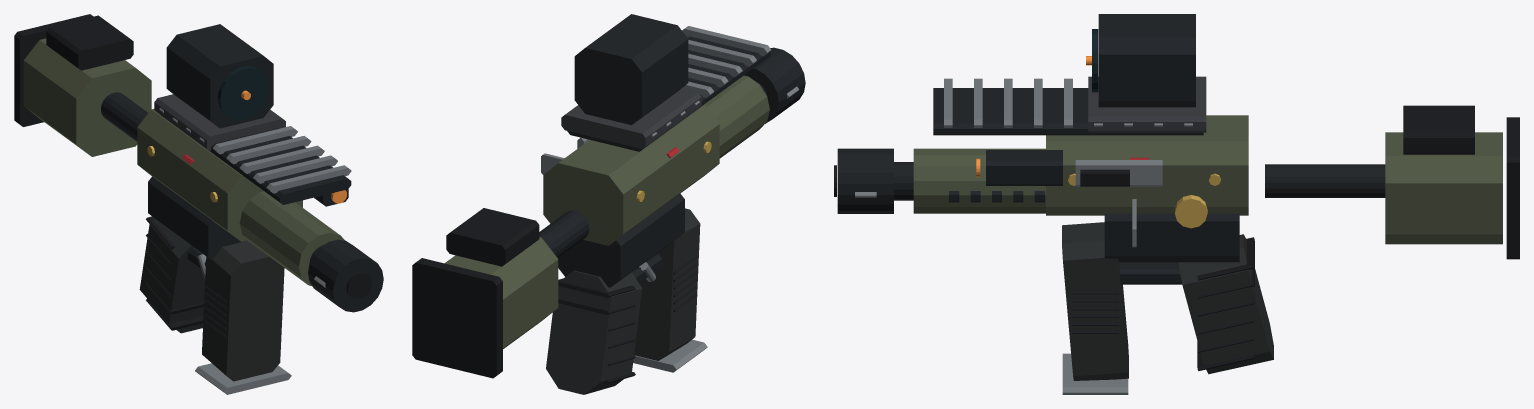
File: 03_Atlas5_Tactical_Carbine.obj
3 views of the same model, side by side, from view 1: azimuth 30°, elevation 25°; view 2: azimuth 150°, elevation 25°; view 3: azimuth 270°, elevation 25° (orthographic). The views are drawn at different scales.
Parts seen in each view (by area): view 1: 014_Magazine, 052_Adjustable_Stock, 000_Machined_Upper_Receiver, 055_Reflex_Housing, 023_Outer_Barrel_Shroud, 007_Angled_Grip, 031_Muzzle_Shroud, 054_Cheek_Riser, 001_Lower_Receiver, 035_Top_Picatinny, 058_MountPlate, 056_FrontLens (+10 smaller); view 2: 000_Machined_Upper_Receiver, 055_Reflex_Housing, 053_Recoil_Pad, 007_Angled_Grip, 014_Magazine, 052_Adjustable_Stock, 001_Lower_Receiver, 054_Cheek_Riser, 058_MountPlate, 023_Outer_Barrel_Shroud, 031_Muzzle_Shroud, 035_Top_Picatinny (+8 smaller); view 3: 000_Machined_Upper_Receiver, 052_Adjustable_Stock, 055_Reflex_Housing, 014_Magazine, 007_Angled_Grip, 035_Top_Picatinny, 001_Lower_Receiver, 023_Outer_Barrel_Shroud, 051_Buffer_Tube, 031_Muzzle_Shroud, 058_MountPlate, 054_Cheek_Riser (+8 smaller).
Part boxes in pixels (box(x1,y1,x2,y2)): 014_Magazine: box(202, 241, 284, 381); 052_Adjustable_Stock: box(23, 38, 151, 156); 000_Machined_Upper_Receiver: box(137, 109, 302, 241); 055_Reflex_Housing: box(166, 24, 273, 128); 023_Outer_Barrel_Shroud: box(239, 191, 344, 285); 007_Angled_Grip: box(139, 219, 205, 333); 031_Muzzle_Shroud: box(308, 239, 383, 312); 054_Cheek_Riser: box(46, 15, 133, 70); 001_Lower_Receiver: box(148, 176, 245, 259); 035_Top_Picatinny: box(159, 114, 351, 204); 058_MountPlate: box(154, 94, 285, 150); 056_FrontLens: box(217, 66, 269, 120); 000_Machined_Upper_Receiver: box(543, 104, 719, 245); 055_Reflex_Housing: box(574, 14, 688, 125); 053_Recoil_Pad: box(412, 258, 502, 378); 007_Angled_Grip: box(546, 270, 642, 394); 014_Magazine: box(634, 208, 700, 360); 052_Adjustable_Stock: box(444, 237, 558, 348); 001_Lower_Receiver: box(558, 193, 684, 287); 054_Cheek_Riser: box(446, 208, 539, 266); 058_MountPlate: box(561, 88, 701, 148); 023_Outer_Barrel_Shroud: box(704, 75, 769, 158); 031_Muzzle_Shroud: box(744, 47, 805, 123); 035_Top_Picatinny: box(567, 36, 770, 151); 000_Machined_Upper_Receiver: box(1046, 115, 1248, 215); 052_Adjustable_Stock: box(1385, 132, 1502, 244); 055_Reflex_Housing: box(1098, 14, 1195, 107); 014_Magazine: box(1062, 222, 1128, 380); 007_Angled_Grip: box(1178, 234, 1273, 374); 035_Top_Picatinny: box(933, 88, 1203, 135); 001_Lower_Receiver: box(1104, 213, 1239, 262); 023_Outer_Barrel_Shroud: box(913, 148, 1045, 213); 051_Buffer_Tube: box(1265, 164, 1385, 197); 031_Muzzle_Shroud: box(837, 148, 893, 213); 058_MountPlate: box(1088, 76, 1206, 132); 054_Cheek_Riser: box(1403, 105, 1474, 154).
Size of the model in its own units: 0.3295 by 0.7595 by 1.34.
